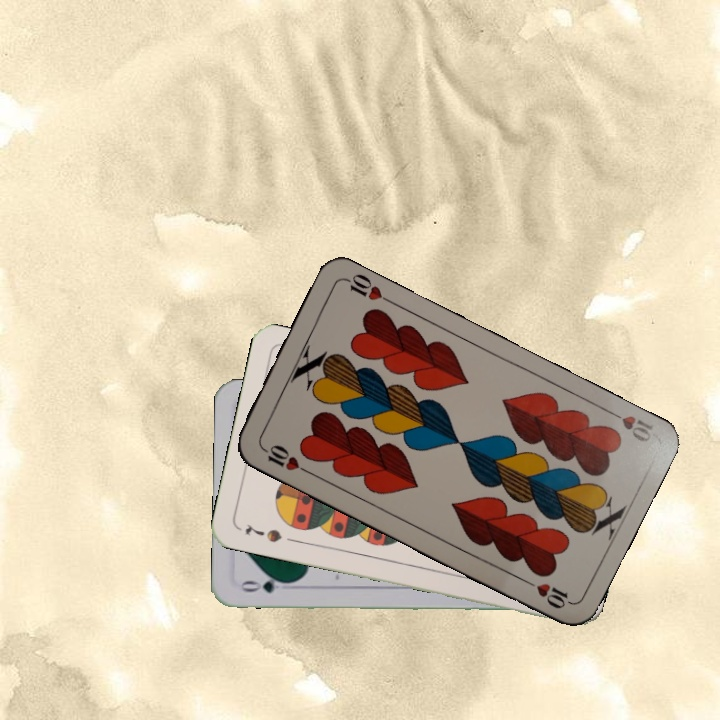GO: (236, 573, 295, 596)
H10: (602, 404, 657, 446), (257, 440, 312, 476)
S7: (241, 520, 284, 545)
